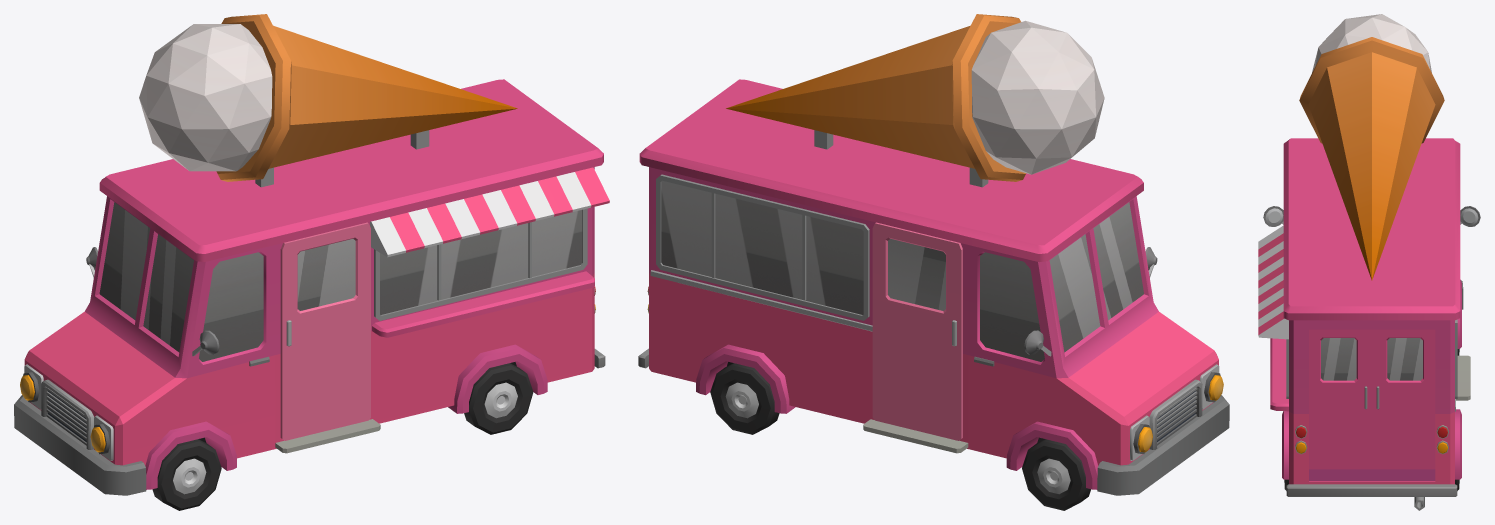
Rendered from IceTruck_1_C.gltf.
3 views of the same model, side by side, from view 1: azimuth 30°, elevation 25°; view 2: azimuth 150°, elevation 25°; view 3: azimuth 270°, elevation 25° (orthographic). The views are drawn at different scales.
Visible parts, largest first — view 1: IceTruck_1_C, RL, FL; view 2: IceTruck_1_C, RR, FR; view 3: IceTruck_1_C.
Boxes of the visible parts, x1,y1,x2,y2 form: IceTruck_1_C: (14, 14, 609, 495); RL: (464, 363, 533, 434); FL: (152, 439, 221, 510); IceTruck_1_C: (638, 14, 1229, 495); RR: (710, 363, 779, 434); FR: (1022, 439, 1090, 510); IceTruck_1_C: (1258, 14, 1480, 510).
Bounding box in the file's own units: 4.16 × 3.38 × 1.84.
4 materials, 4 textured.
